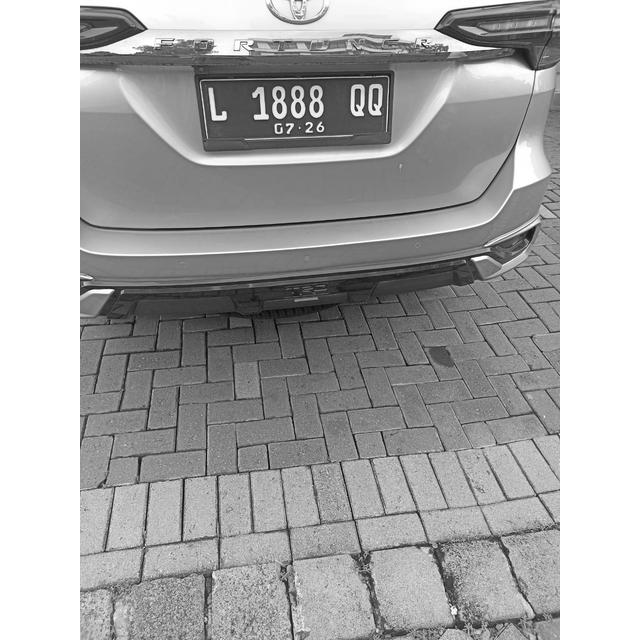license: (203, 81, 390, 135)
